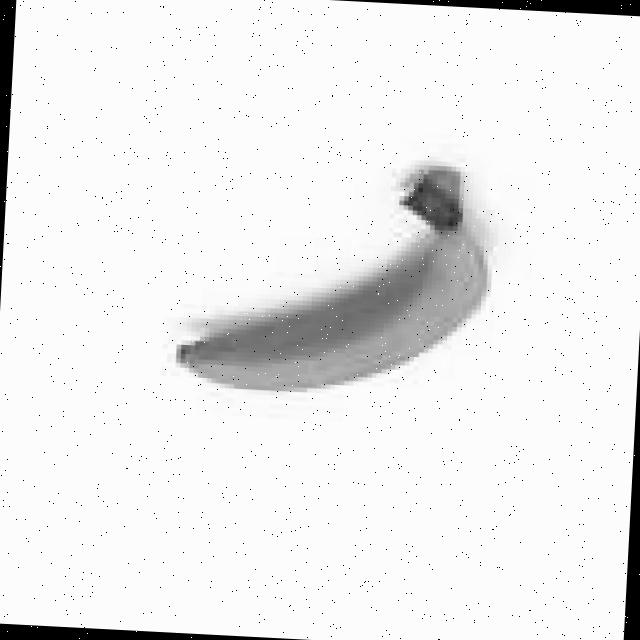Unripe: (170, 151, 496, 406)
